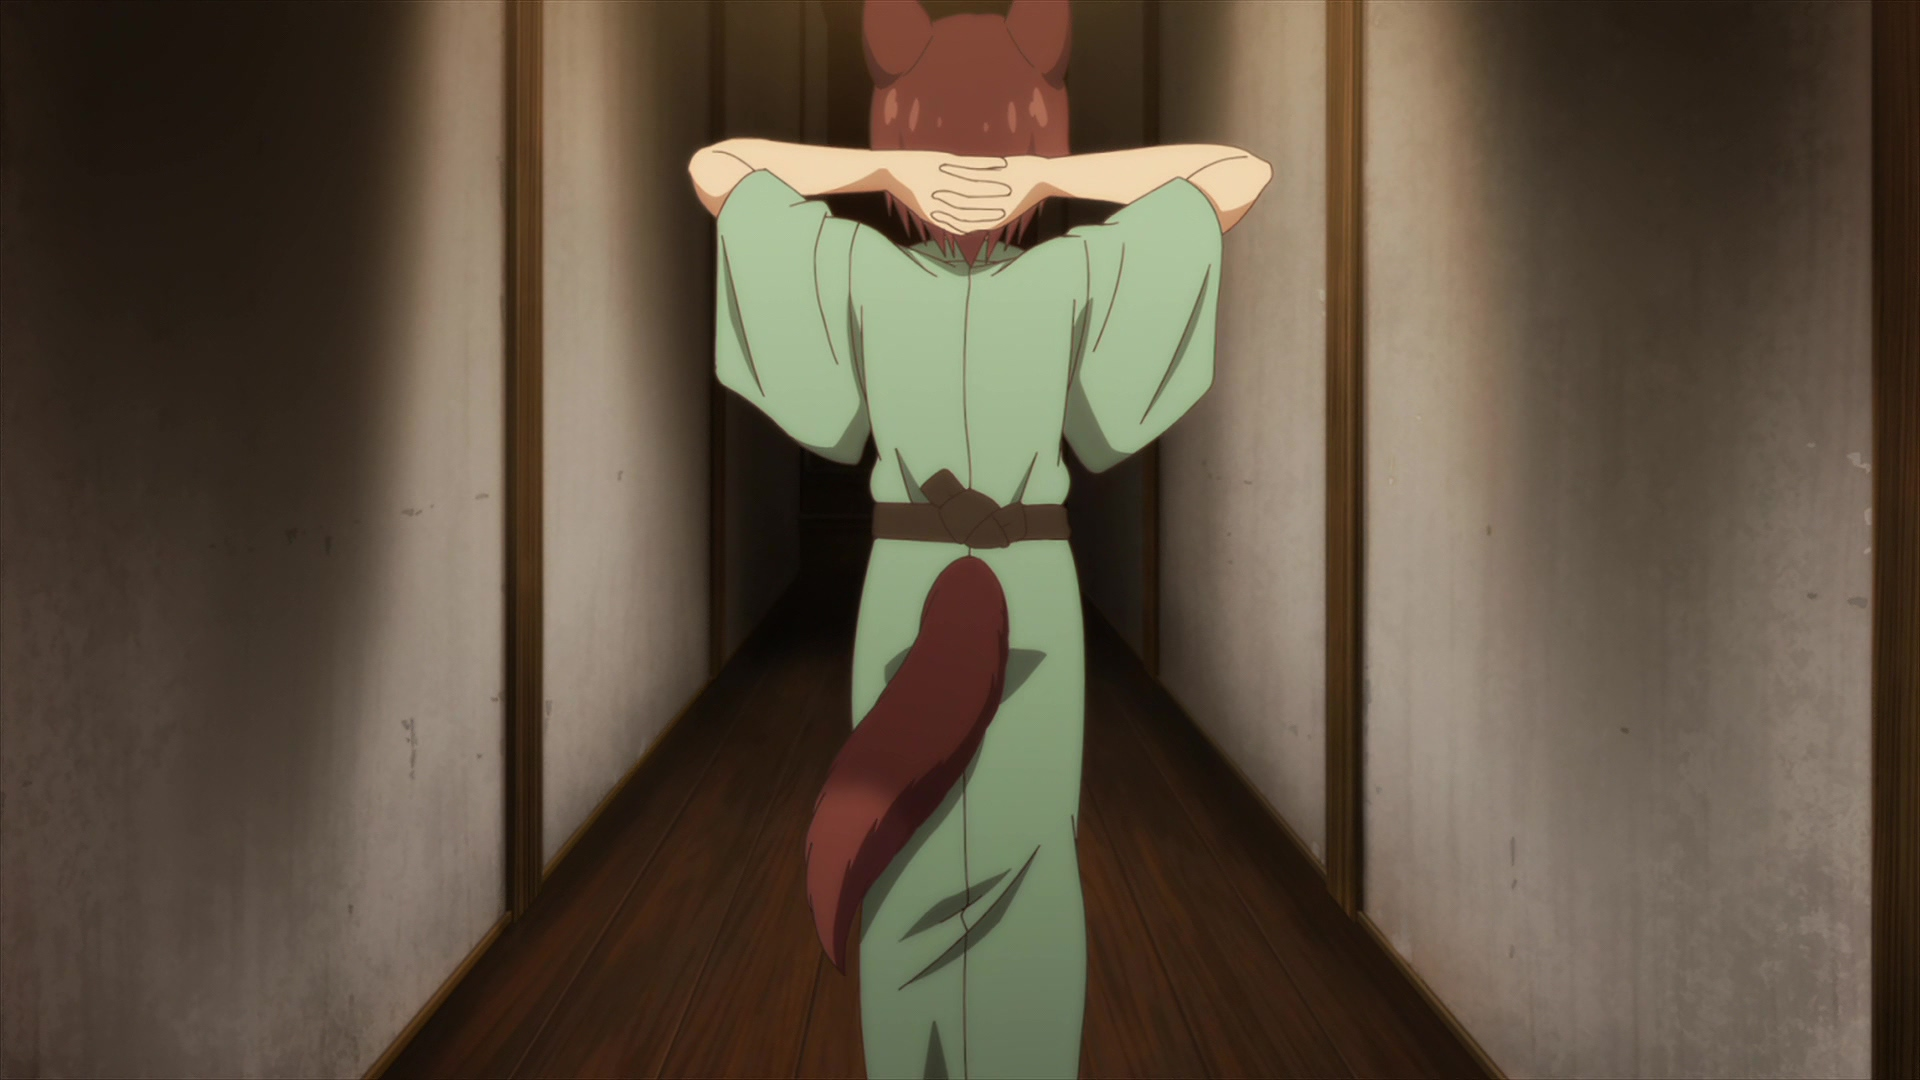枣: (688, 1, 1269, 1080)
